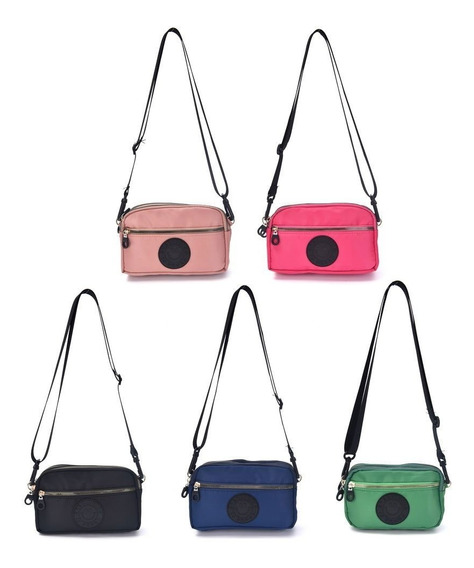cartera: (257, 29, 383, 276), (24, 288, 148, 536), (115, 28, 237, 278), (180, 284, 302, 533), (336, 280, 453, 534)
